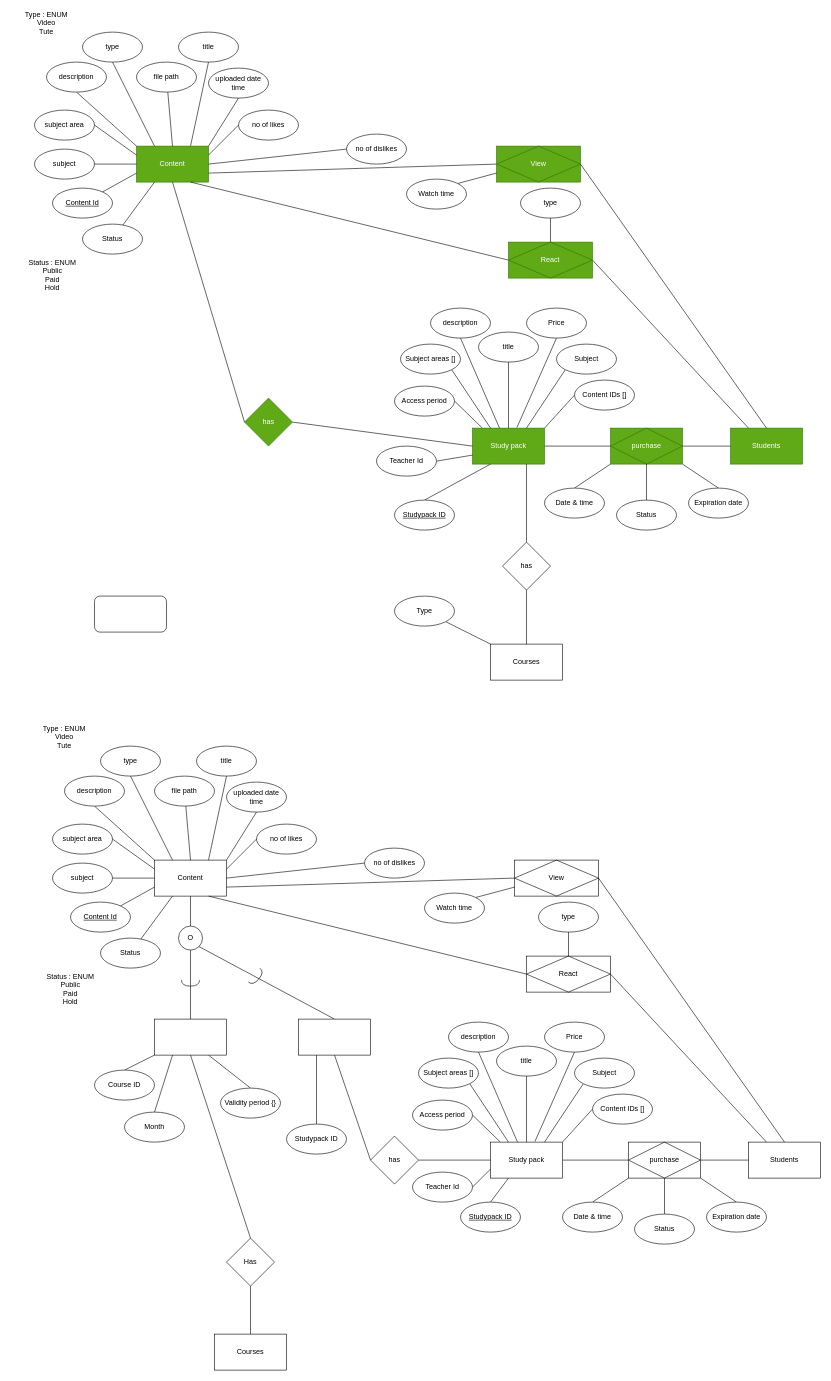
This 831x1381 diagram has some shape labels left out. Each missing label, with the centre of its shape:
Course Content: the point at 190,1036
Studypack Content: the point at 334,1036
